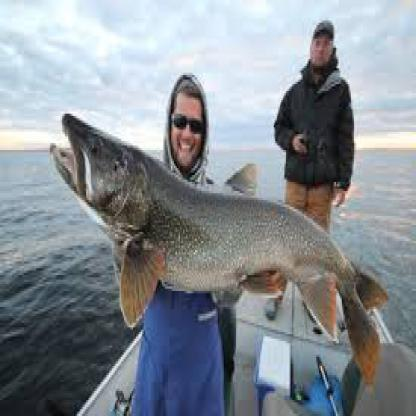fish: (47, 111, 388, 387)
